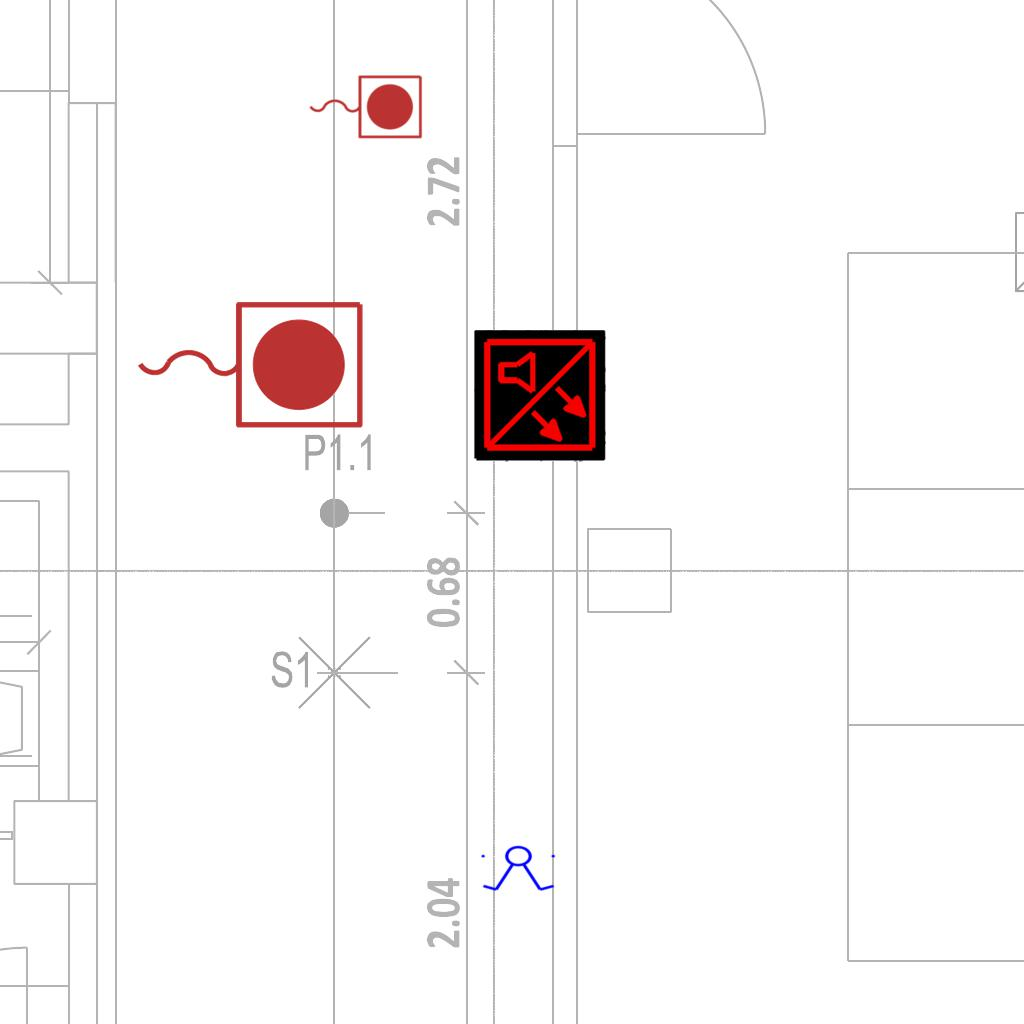OKW_Multisensormelder_(Kombination_optischer_Rauch-Kahlenmonoxid_Waerme-Melder): (474, 330, 606, 462)
Serienschalter: (477, 845, 561, 893)
Zugtaster: (127, 291, 371, 435), (304, 70, 426, 142)
